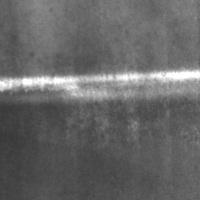scratches: (0, 67, 199, 97)
